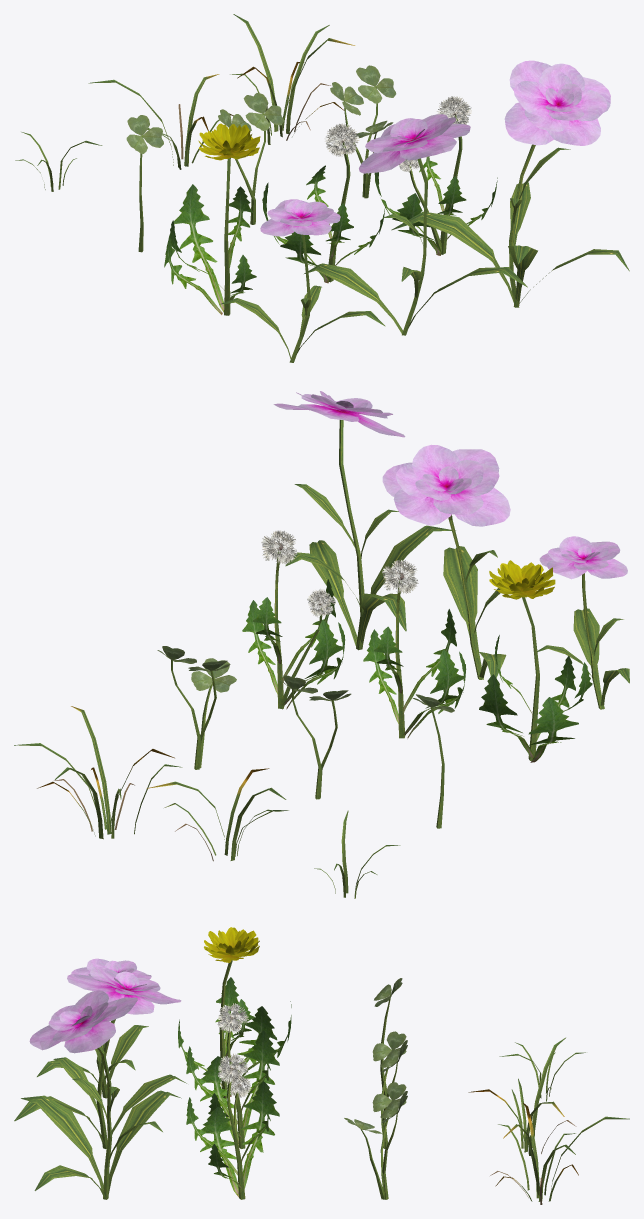
File: plants1.glb
The picture shows the model from 3 angles, top to bottom: view 1: azimuth 30°, elevation 25°; view 2: azimuth 150°, elevation 25°; view 3: azimuth 270°, elevation 25°; orthographic projection. The views are drawn at different scales.
Parts seen in each view (by area): view 1: Flower 3, Flower 2, Dandelion 1, Flower 1, Dandelion 3, Dandelion 2, Clover 3, Grass 3, Clover 2, Clover 1, Grass 2, Plane.016; view 2: Flower 2, Flower 3, Dandelion 1, Dandelion 3, Dandelion 2, Flower 1, Grass 3, Clover 3, Grass 2, Clover 2, Plane.016, Clover 1; view 3: Flower 3, Dandelion 3, Flower 2, Dandelion 1, Dandelion 2, Flower 1, Clover 3, Grass 3, Plane.016, Grass 2, Clover 2, Clover 1 (+1 smaller).
Boxes of the visible parts, x1=… form: Flower 3: x1=391, y1=60, x2=629, y2=307; Flower 2: x1=304, y1=114, x2=527, y2=335; Dandelion 1: x1=164, y1=123, x2=260, y2=315; Flower 1: x1=219, y1=199, x2=385, y2=362; Dandelion 3: x1=374, y1=96, x2=497, y2=255; Dandelion 2: x1=262, y1=123, x2=385, y2=283; Clover 3: x1=330, y1=65, x2=396, y2=198; Grass 3: x1=230, y1=14, x2=355, y2=144; Clover 2: x1=218, y1=93, x2=284, y2=224; Clover 1: x1=126, y1=115, x2=163, y2=252; Grass 2: x1=88, y1=74, x2=233, y2=169; Plane.016: x1=508, y1=245, x2=537, y2=306; Flower 2: x1=382, y1=444, x2=510, y2=679; Flower 3: x1=273, y1=391, x2=406, y2=650; Dandelion 1: x1=479, y1=560, x2=592, y2=762; Dandelion 3: x1=242, y1=530, x2=345, y2=709; Dandelion 2: x1=363, y1=560, x2=466, y2=738; Flower 1: x1=537, y1=536, x2=629, y2=709; Grass 3: x1=14, y1=706, x2=182, y2=839; Clover 3: x1=157, y1=646, x2=236, y2=769; Grass 2: x1=146, y1=768, x2=288, y2=861; Clover 2: x1=279, y1=675, x2=351, y2=799; Plane.016: x1=361, y1=525, x2=455, y2=649; Clover 1: x1=413, y1=694, x2=454, y2=828; Flower 3: x1=29, y1=990, x2=181, y2=1199; Dandelion 3: x1=186, y1=1053, x2=279, y2=1199; Flower 2: x1=14, y1=966, x2=186, y2=1148; Dandelion 1: x1=178, y1=927, x2=291, y2=1098; Dandelion 2: x1=186, y1=1003, x2=279, y2=1148; Flower 1: x1=37, y1=958, x2=151, y2=1098; Clover 3: x1=344, y1=1082, x2=407, y2=1199; Grass 3: x1=490, y1=1103, x2=629, y2=1204; Plane.016: x1=21, y1=1095, x2=103, y2=1196; Grass 2: x1=468, y1=1037, x2=576, y2=1155; Clover 2: x1=372, y1=1031, x2=407, y2=1148; Clover 1: x1=374, y1=978, x2=402, y2=1095.
Bounding box in the file's own units: 9.7 × 5.84 × 15.4.
Materials: 1 (1 with a texture image).
